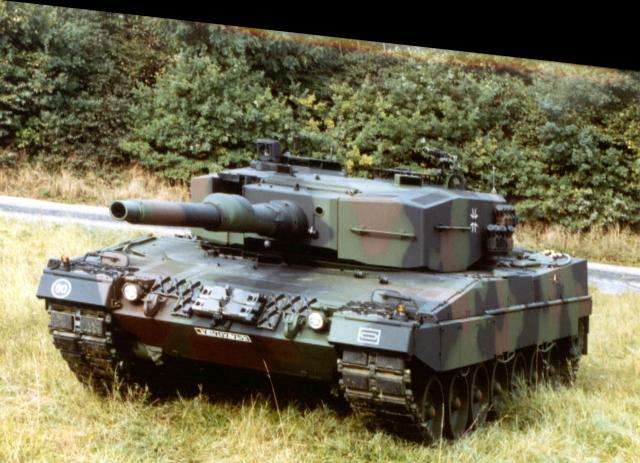tank: (47, 101, 591, 441)
